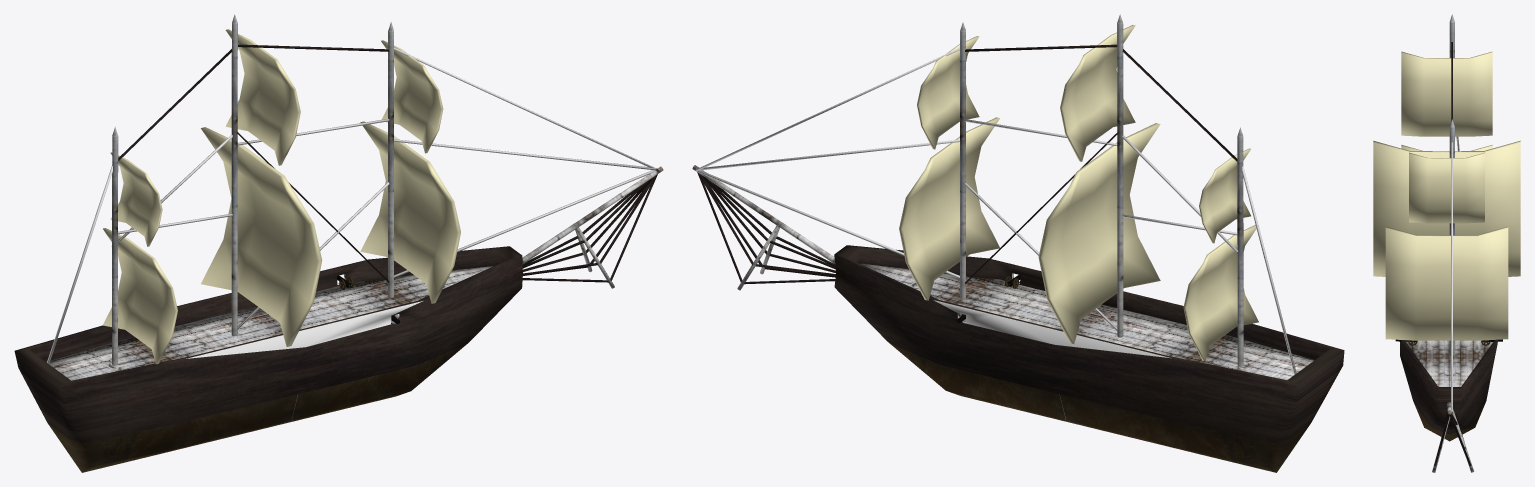
Rendered from ship.obj.
3 views of the same model, side by side, from view 1: azimuth 30°, elevation 25°; view 2: azimuth 150°, elevation 25°; view 3: azimuth 270°, elevation 25° (orthographic). The views are drawn at different scales.
Visible parts, largest first — view 1: Cube.002_Mesh.001; view 2: Cube.002_Mesh.001; view 3: Cube.002_Mesh.001.
Boxes of the visible parts, x1,y1,x2,y2 form: Cube.002_Mesh.001: (14, 14, 663, 472); Cube.002_Mesh.001: (692, 14, 1344, 472); Cube.002_Mesh.001: (1373, 14, 1520, 472).
Size of the model in its own units: 15.68 by 10.07 by 3.74.
Materials: 1 (1 with a texture image).
